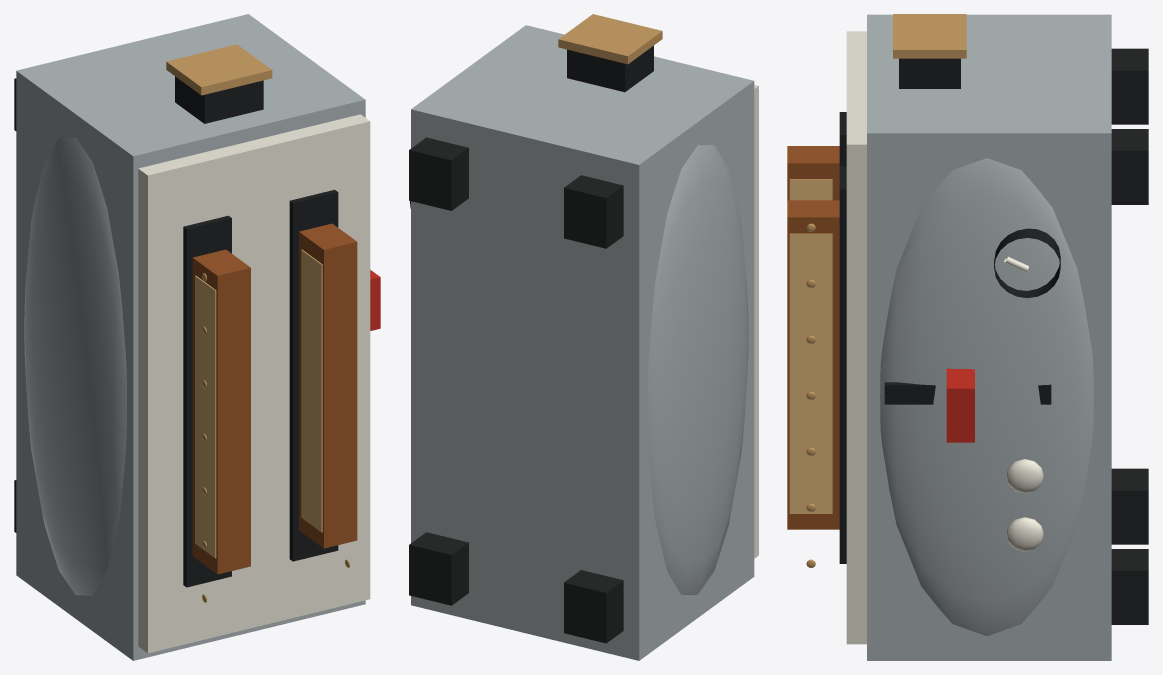
Rendered from toaster.obj.
3 views of the same model, side by side, from view 1: azimuth 30°, elevation 25°; view 2: azimuth 150°, elevation 25°; view 3: azimuth 270°, elevation 25° (orthographic). The views are drawn at different scales.
Bounding box in the file's own units: 0.153 × 0.2645 × 0.152.
Materials: 1 (1 with a texture image).
